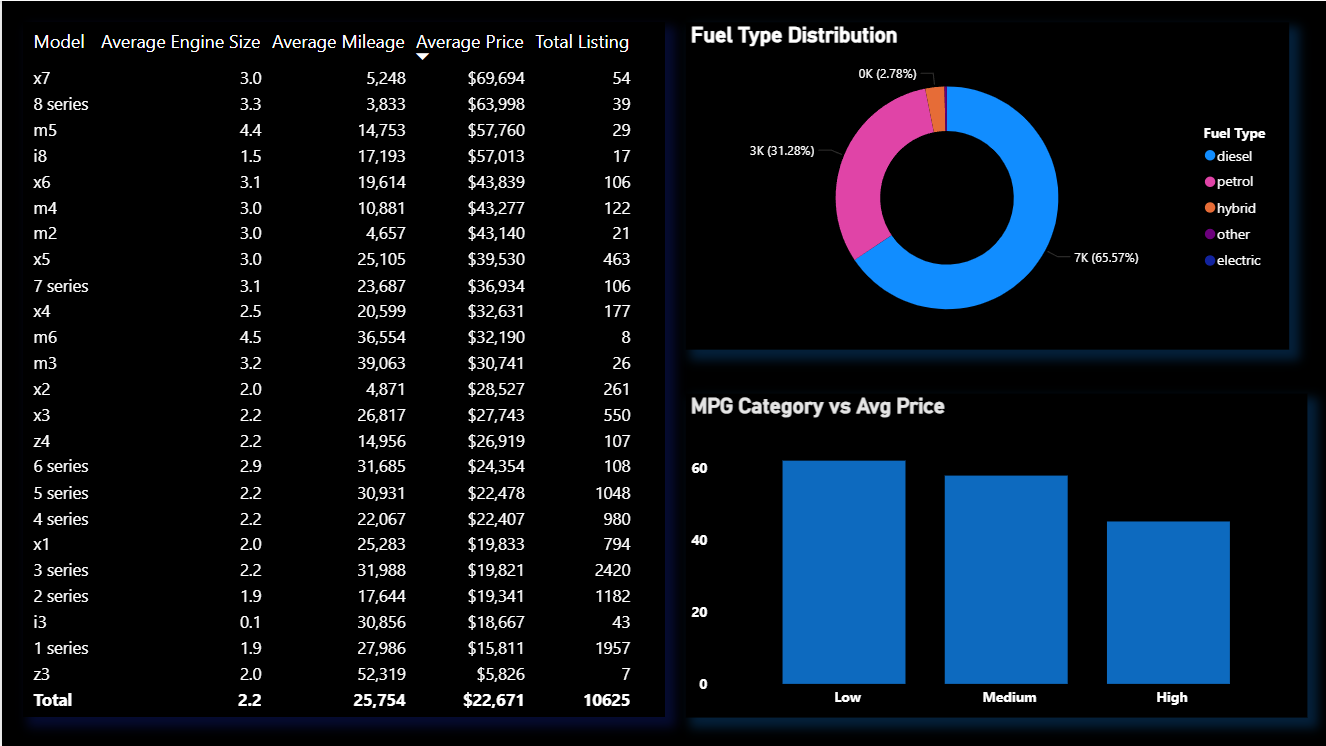

What the dashboard file says about the page in this screenshot:
{"tool":"powerbi","page":{"name":"Page 3","canvas":[1280,720],"ordinal":2},"visuals":[{"type":"pivotTable","fields":{"Rows":["bmw_clean.model"],"Values":["bmw_clean.Average Engine Size","bmw_clean.Average Mileage","bmw_clean.Average Price","bmw_clean.Total Listing"]},"box":[20.5,20.5,618.9,670.8],"z":0},{"type":"donutChart","title":"Fuel Type Distribution","fields":{"Y":["bmw_clean.Total Listing"],"Category":["bmw_clean.Fuel Type"]},"box":[659.9,20.5,582.7,316.1],"z":1000},{"type":"clusteredColumnChart","title":"MPG Category vs Avg Price","fields":{"Category":["bmw_clean.price_category"],"Y":["bmw_clean.Average mpg"]},"box":[659.9,378.8,599.6,312.5],"z":2000}]}

Visuals, with their boxes in screenshot pixels (x1, y1, x2, y2), scaled from the page's 1280x720 canvas onto the 1326x746 screenshot:
pivotTable - bmw_clean.model x bmw_clean.Average Engine Size: 21 21 662 716
"Fuel Type Distribution" donutChart: 684 21 1287 349
"MPG Category vs Avg Price" clusteredColumnChart: 684 392 1305 716
